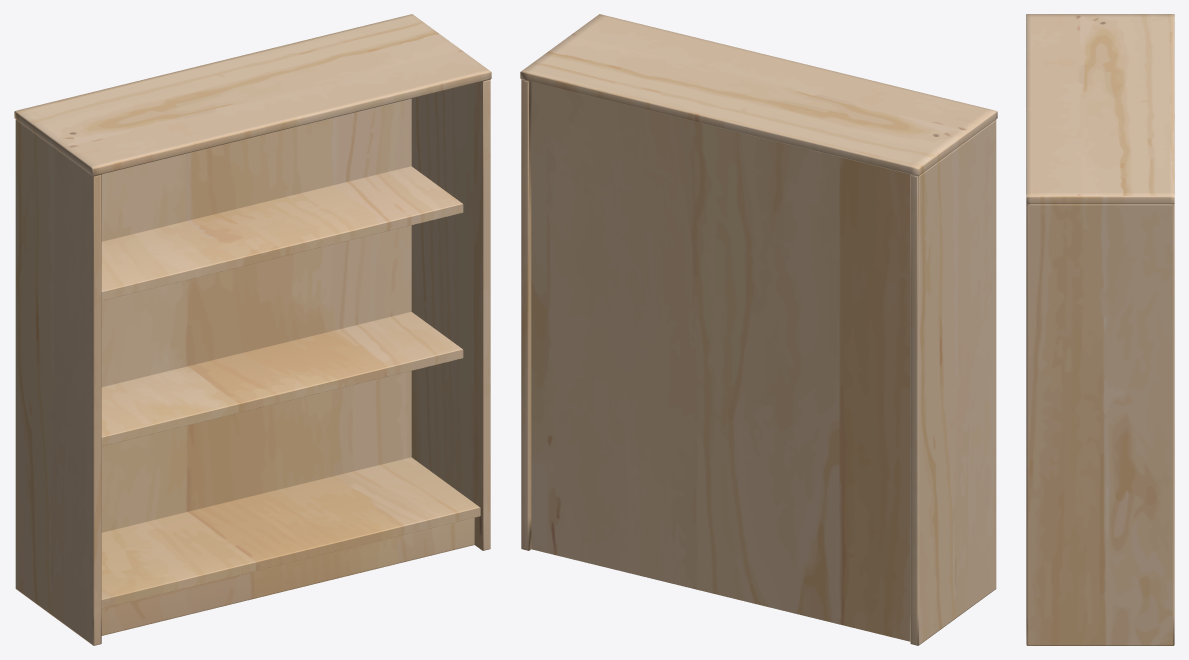
Rendered from shelf.obj.
The picture shows the model from 3 angles, left to right: view 1: azimuth 30°, elevation 25°; view 2: azimuth 150°, elevation 25°; view 3: azimuth 270°, elevation 25°; orthographic projection. The views are drawn at different scales.
Visible parts, largest first — view 1: shelf_object_shelf_mesh; view 2: shelf_object_shelf_mesh; view 3: shelf_object_shelf_mesh.
Part boxes in pixels (x1,y1,x2,y2): shelf_object_shelf_mesh: (14, 14, 491, 645); shelf_object_shelf_mesh: (520, 14, 997, 645); shelf_object_shelf_mesh: (1026, 14, 1174, 645).
Size of the model in its own units: 2.01 by 2.3 by 0.6882.
